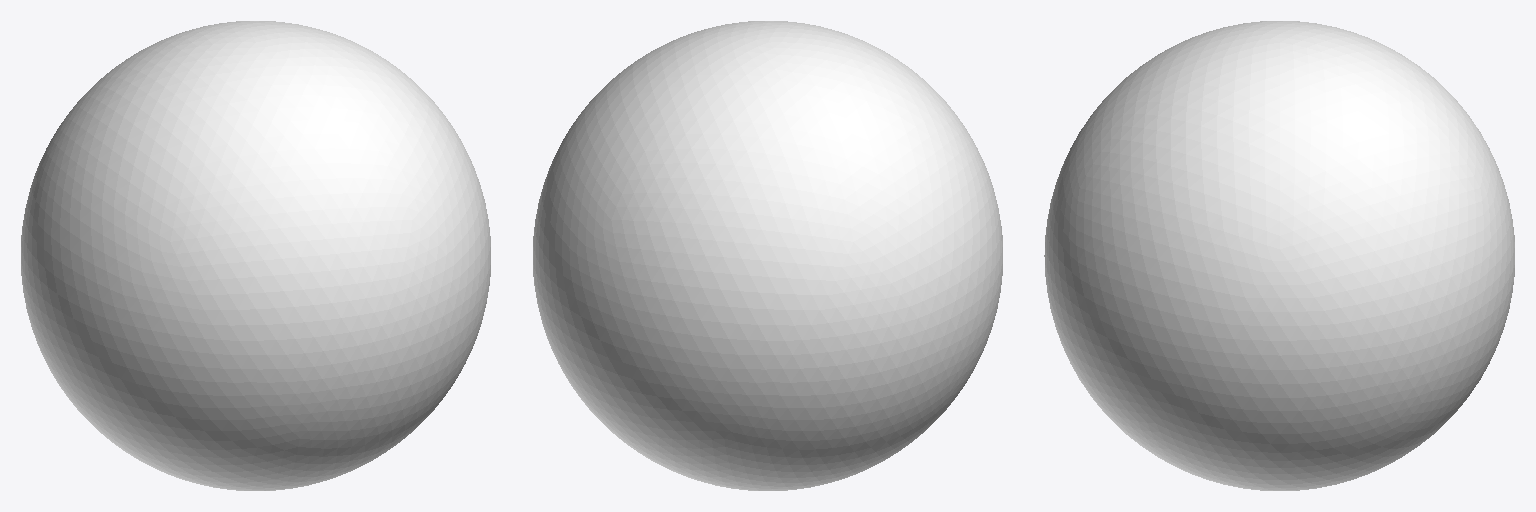
Rendered from lscm_earth.obj.
The picture shows the model from 3 angles: view 1: azimuth 30°, elevation 25°; view 2: azimuth 150°, elevation 25°; view 3: azimuth 270°, elevation 25°; orthographic projection.
Parts seen in each view (by area): view 1: material_export; view 2: material_export; view 3: material_export.
Part boxes in pixels (left/top/right/bottom): material_export: left=21, top=21, right=490, bottom=490; material_export: left=533, top=21, right=1002, bottom=490; material_export: left=1044, top=21, right=1514, bottom=490.
Size of the model in its own units: 2 by 2 by 2.